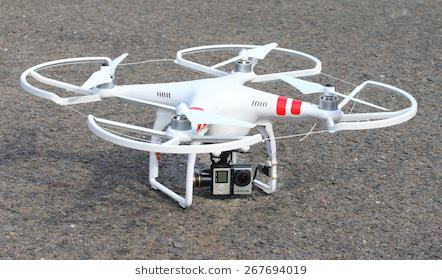drone: (19, 42, 420, 207)
